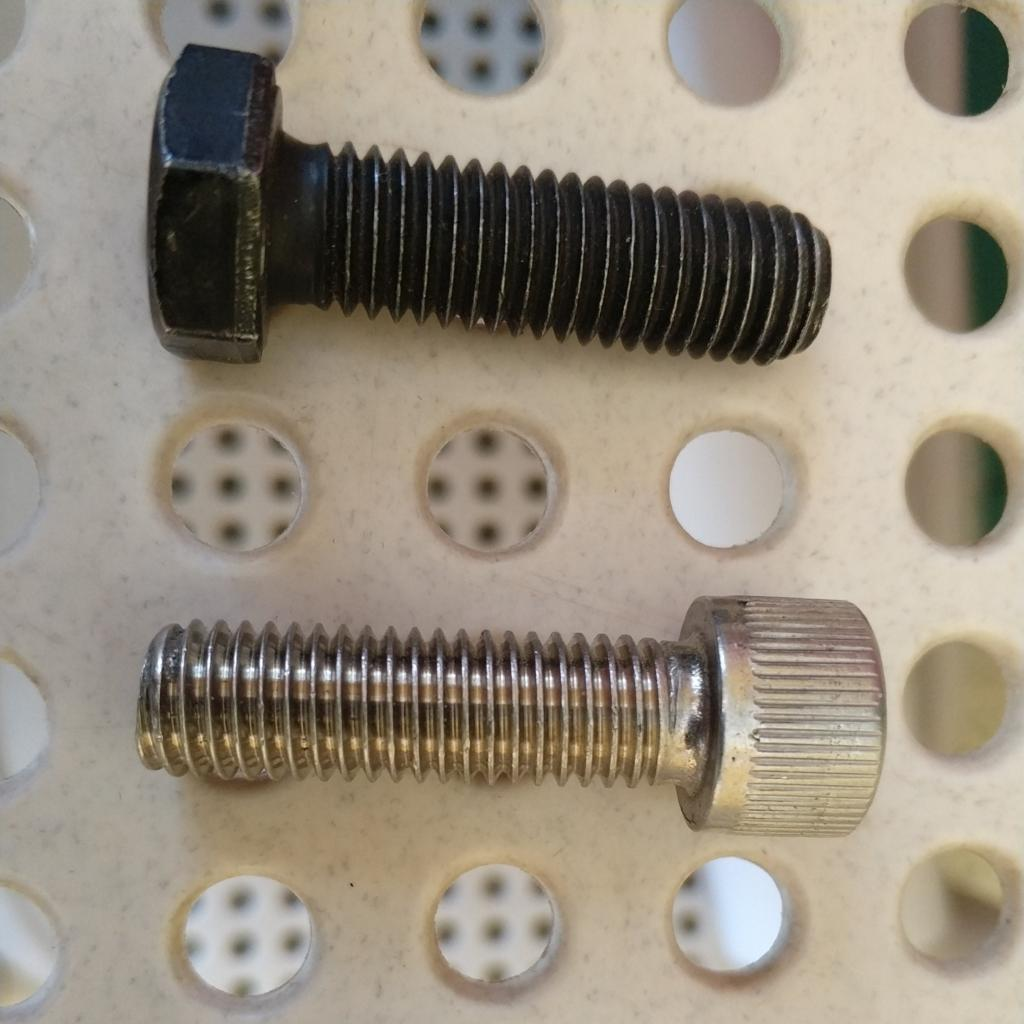screwtype1silver: (129, 591, 894, 846)
screwtype2black: (118, 34, 836, 382)
